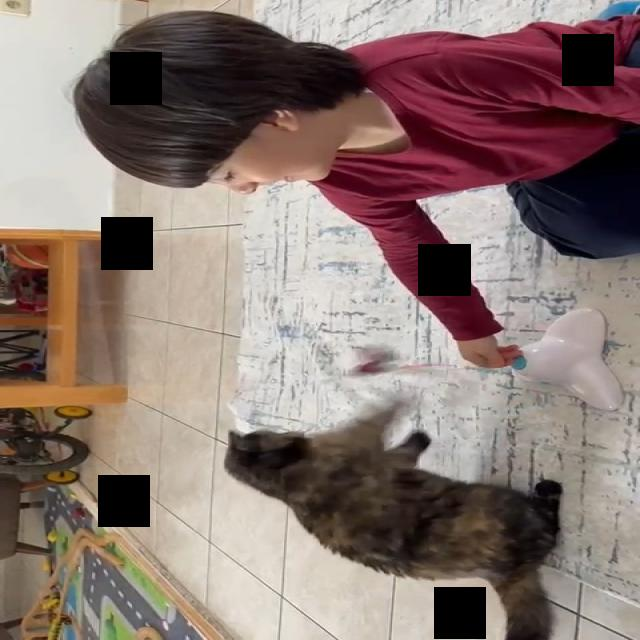authorized: (222, 400, 562, 639)
